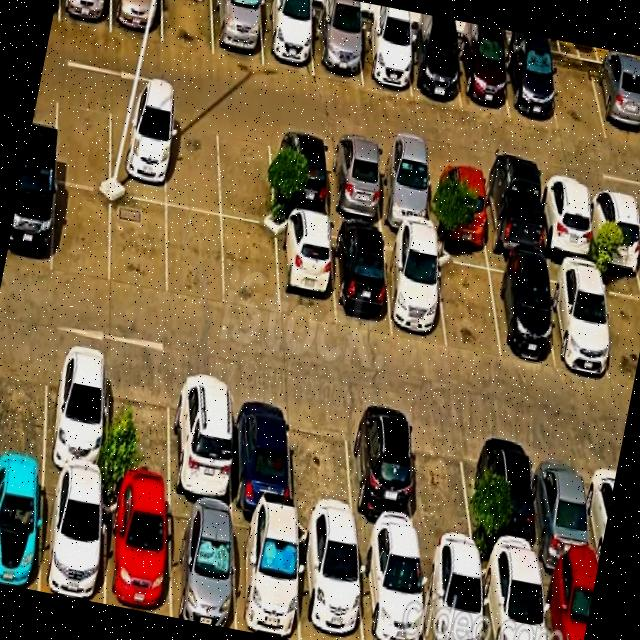empty: (412, 417, 476, 556), (290, 397, 355, 532), (108, 358, 171, 496), (436, 247, 501, 358), (0, 337, 48, 468), (218, 119, 274, 226), (53, 183, 112, 283), (55, 87, 111, 191), (167, 207, 225, 306), (111, 195, 167, 297), (167, 110, 221, 214), (222, 219, 279, 317), (547, 55, 606, 139), (599, 270, 640, 387), (163, 0, 214, 55)
occupied: (348, 407, 418, 544), (169, 498, 236, 630), (44, 345, 108, 483), (105, 486, 170, 617), (234, 511, 300, 640), (40, 473, 104, 604), (534, 439, 596, 574), (171, 371, 232, 508), (232, 383, 293, 517), (483, 429, 540, 565), (298, 523, 363, 640), (545, 261, 611, 376), (488, 256, 554, 363), (384, 235, 446, 347), (358, 537, 425, 640), (331, 224, 392, 333), (277, 215, 335, 326), (420, 546, 485, 640), (111, 98, 168, 204), (481, 168, 543, 259), (480, 556, 546, 640), (0, 466, 44, 591), (429, 158, 488, 247), (270, 130, 329, 219), (5, 171, 56, 273), (375, 148, 433, 234), (326, 139, 383, 226), (539, 177, 594, 263), (504, 44, 558, 129), (588, 185, 640, 271), (457, 35, 509, 118), (406, 30, 461, 108), (357, 20, 412, 97), (540, 566, 597, 640), (260, 0, 314, 76), (591, 63, 640, 146), (312, 11, 362, 84), (212, 0, 263, 66), (111, 0, 162, 43), (59, 0, 111, 33)
